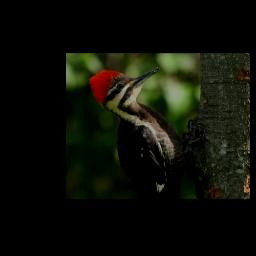Woodpecker: (90, 67, 203, 198)
